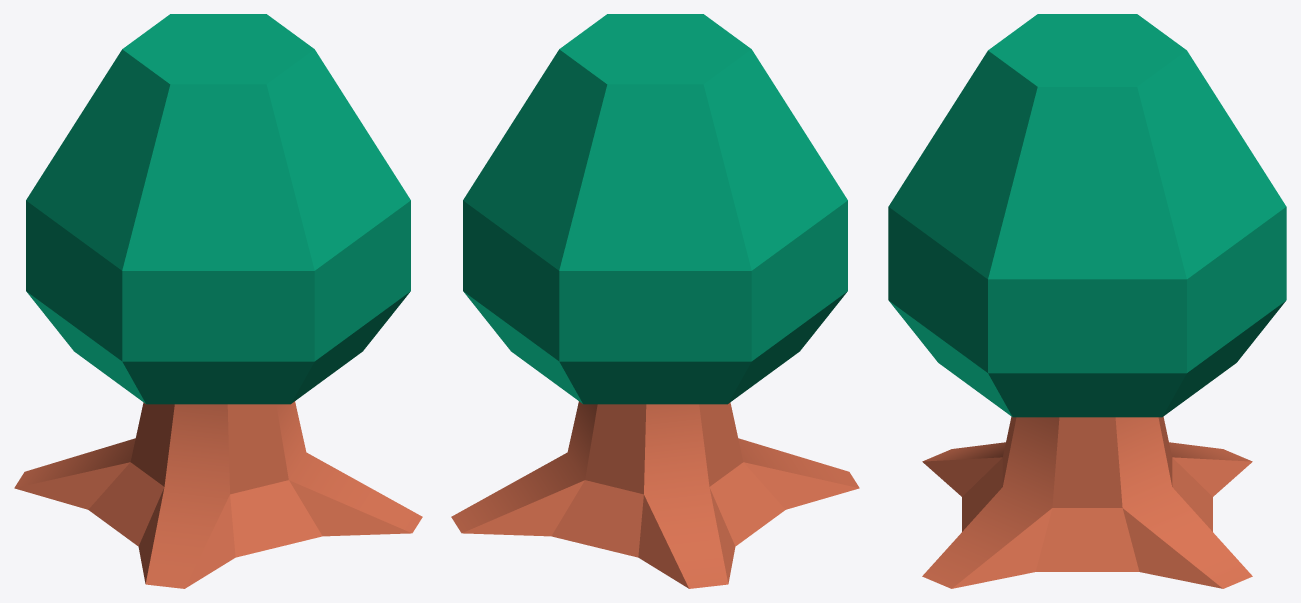
The model's file is Tree_2.fbx.
3 renders of one model, left to right at view 1: azimuth 30°, elevation 25°; view 2: azimuth 150°, elevation 25°; view 3: azimuth 270°, elevation 25°, orthographic. The views are drawn at different scales.
Visible parts, largest first — view 1: mergedBlocks; view 2: mergedBlocks; view 3: mergedBlocks.
Boxes of the visible parts, x1,y1,x2,y2 form: mergedBlocks: (14,14,422,588); mergedBlocks: (451,14,859,588); mergedBlocks: (888,14,1286,588).
Bounding box in the file's own units: 10 × 15 × 11.55.
